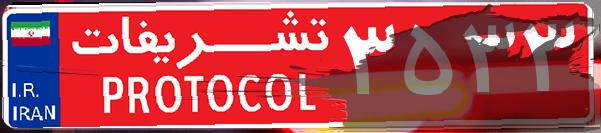3: (340, 20, 400, 115), (460, 20, 520, 115), (520, 20, 580, 115)
5: (400, 20, 460, 115)
تشریفات: (60, 8, 340, 125)
